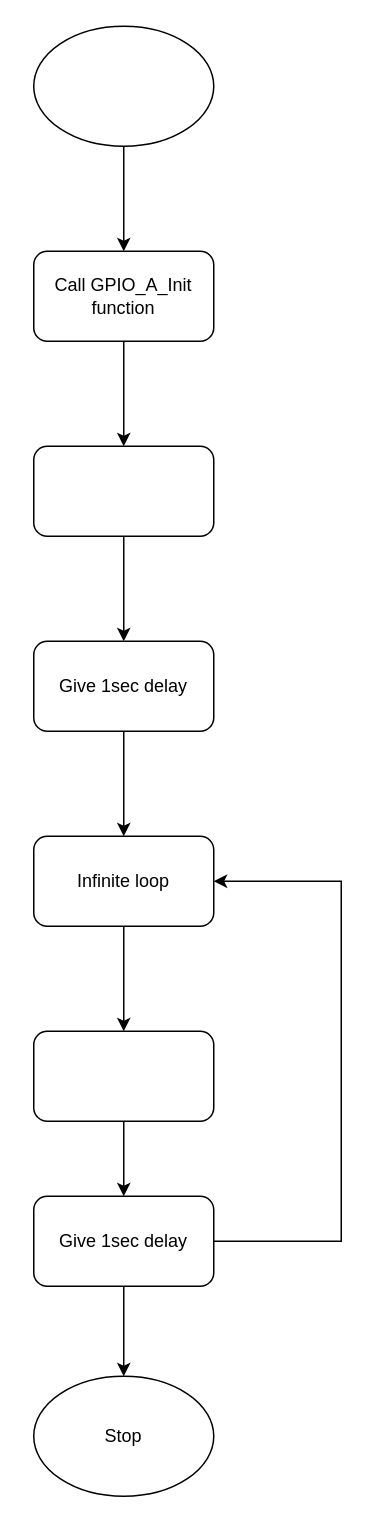
The diagram is 380 pixels wide and 1523 high, and some of its shapes have lost their labels. Here are the shapes that lost their labels. From the top down, the centre of each, then its label:
the point at 123,85: Start
the point at 123,490: Call UART0_Init function
the point at 123,1075: Call UART0_Transmitter with data as argument
